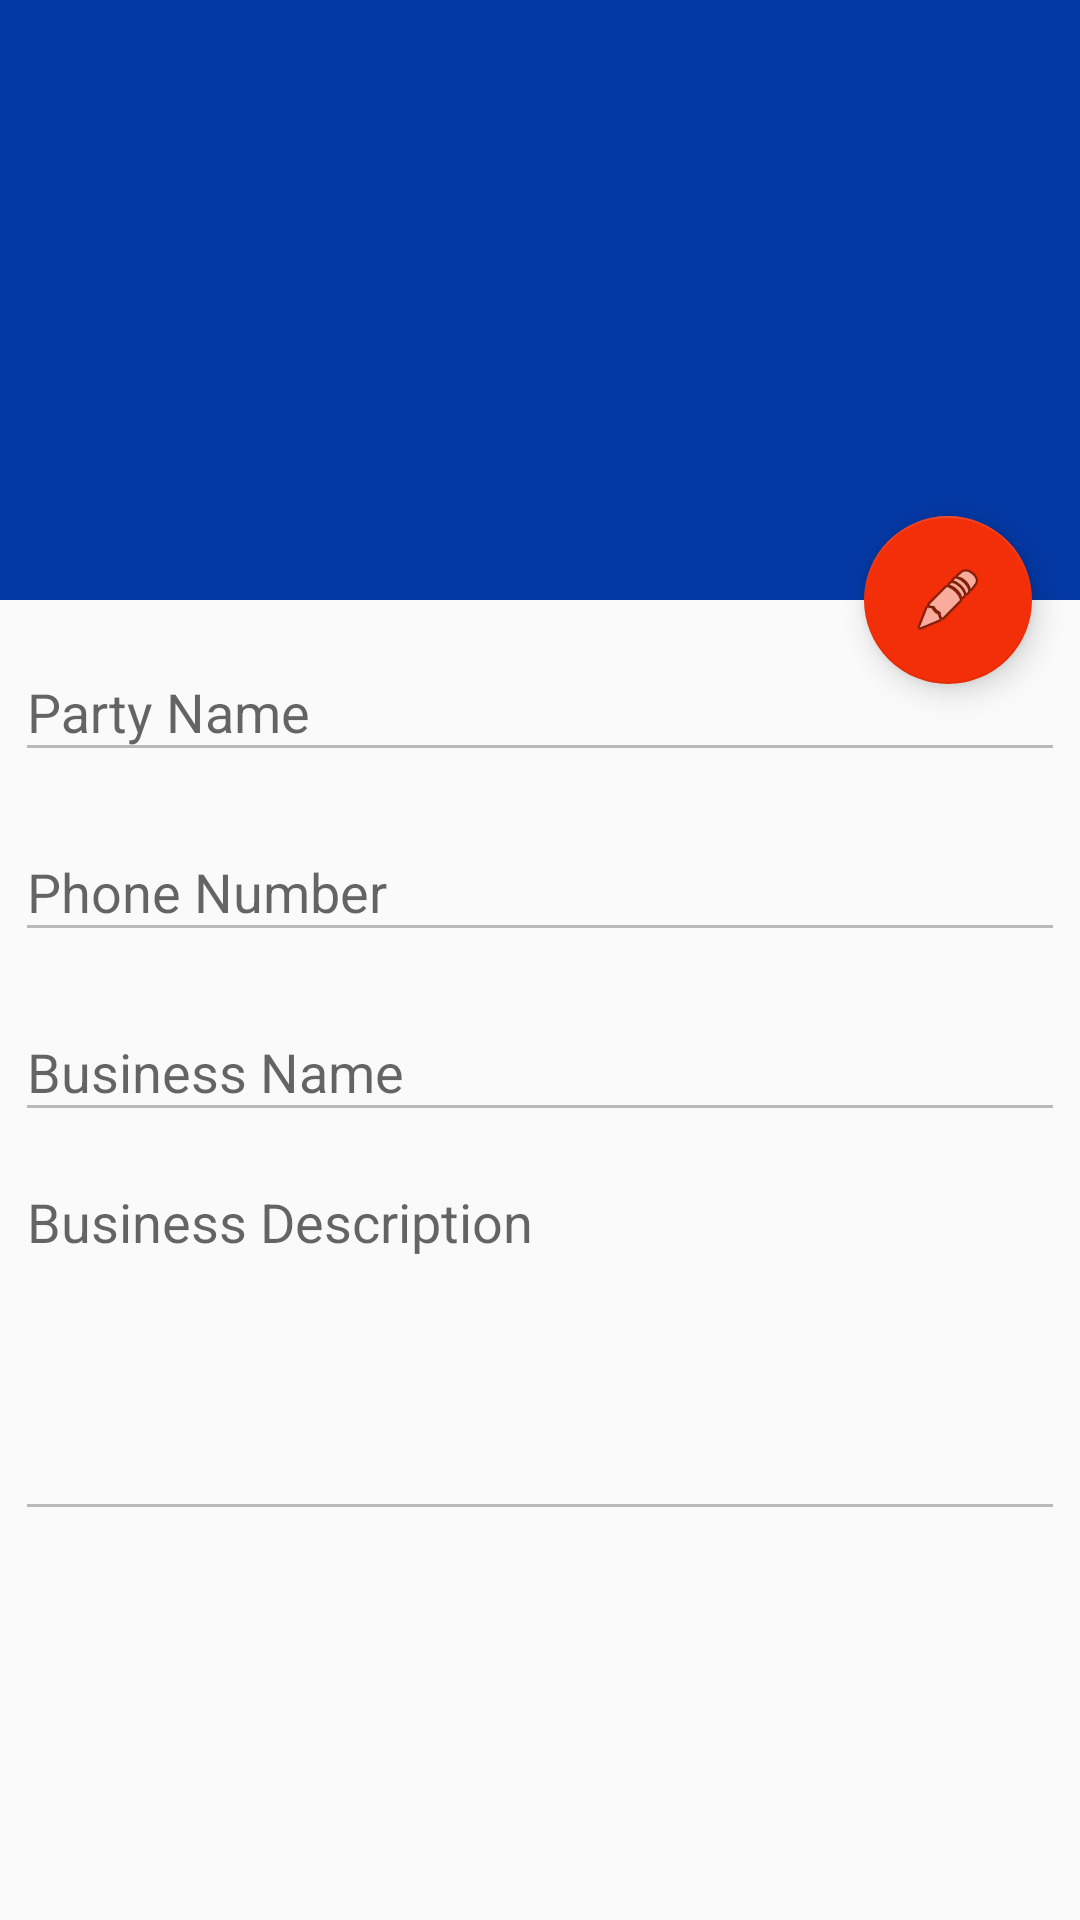

Icon click points for this 1080 × 1920 phone screenshot, format (x,y):
edit: (948,600)
